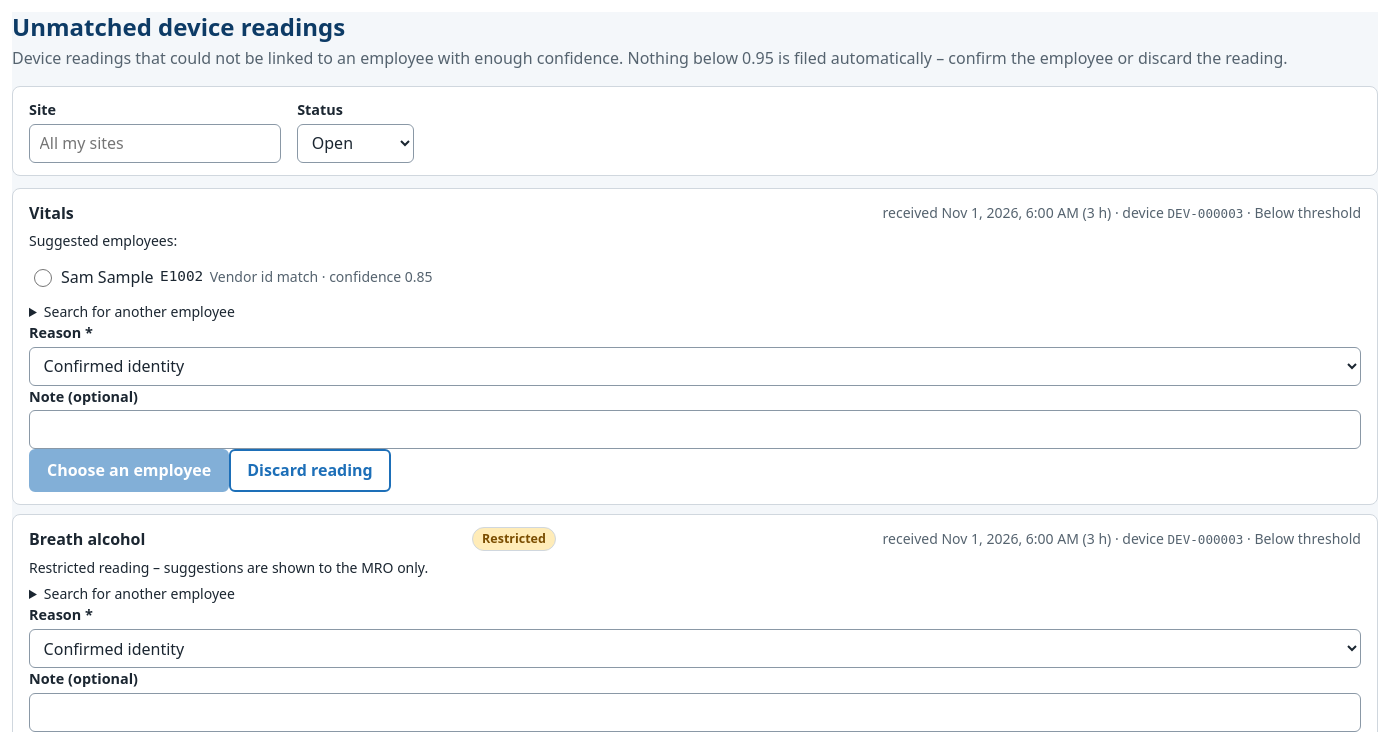
Scenario: Unmatched queue › resolves to a suggested employee with a reason code, or discards
Expected: the text "Restricted reading – suggestions are shown to the MRO only." is shown, [29, 558, 428, 577]
Expected: the text "Vendor id match · confidence 0.85" is shown, [210, 266, 433, 287]
Click the radio button. click: click(43, 278)
box: [34, 270, 52, 287]
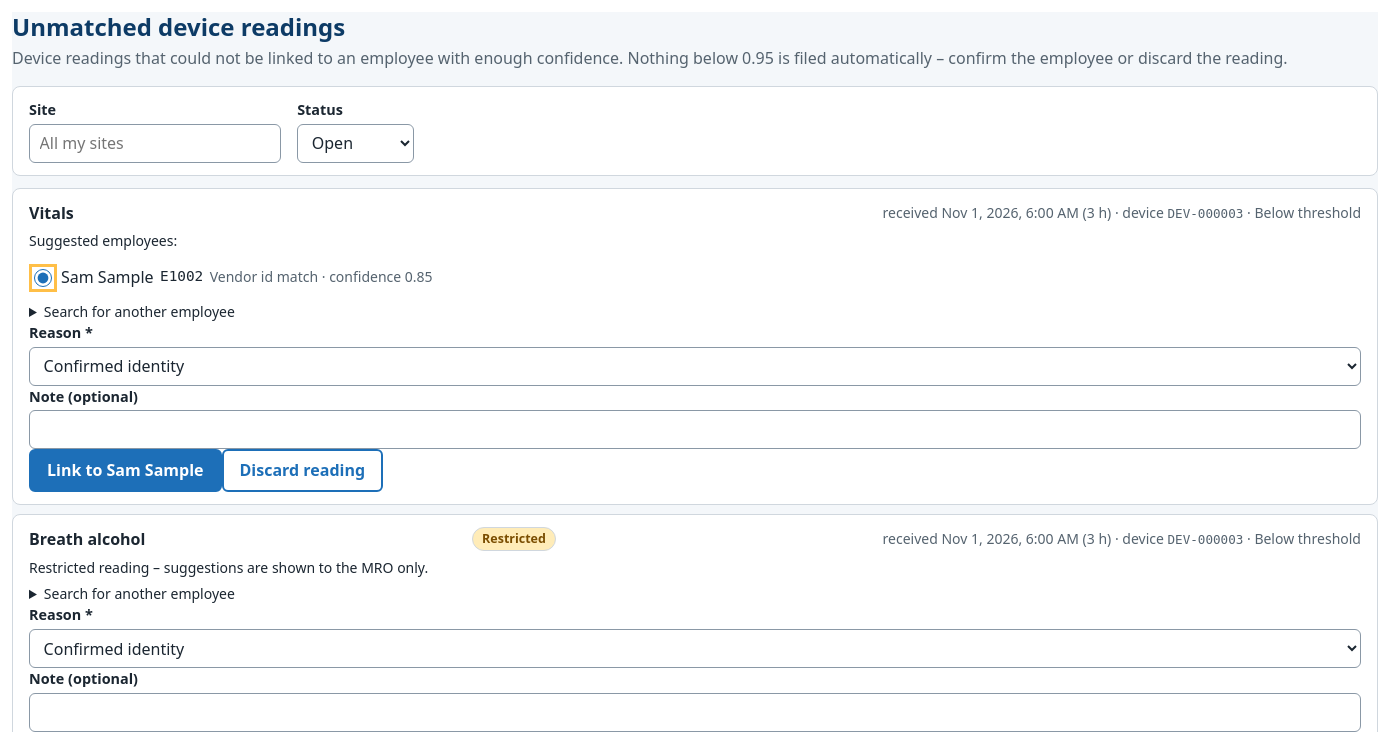
Click the button "Link to Sam Sample". click: click(125, 470)
box: [29, 449, 222, 492]
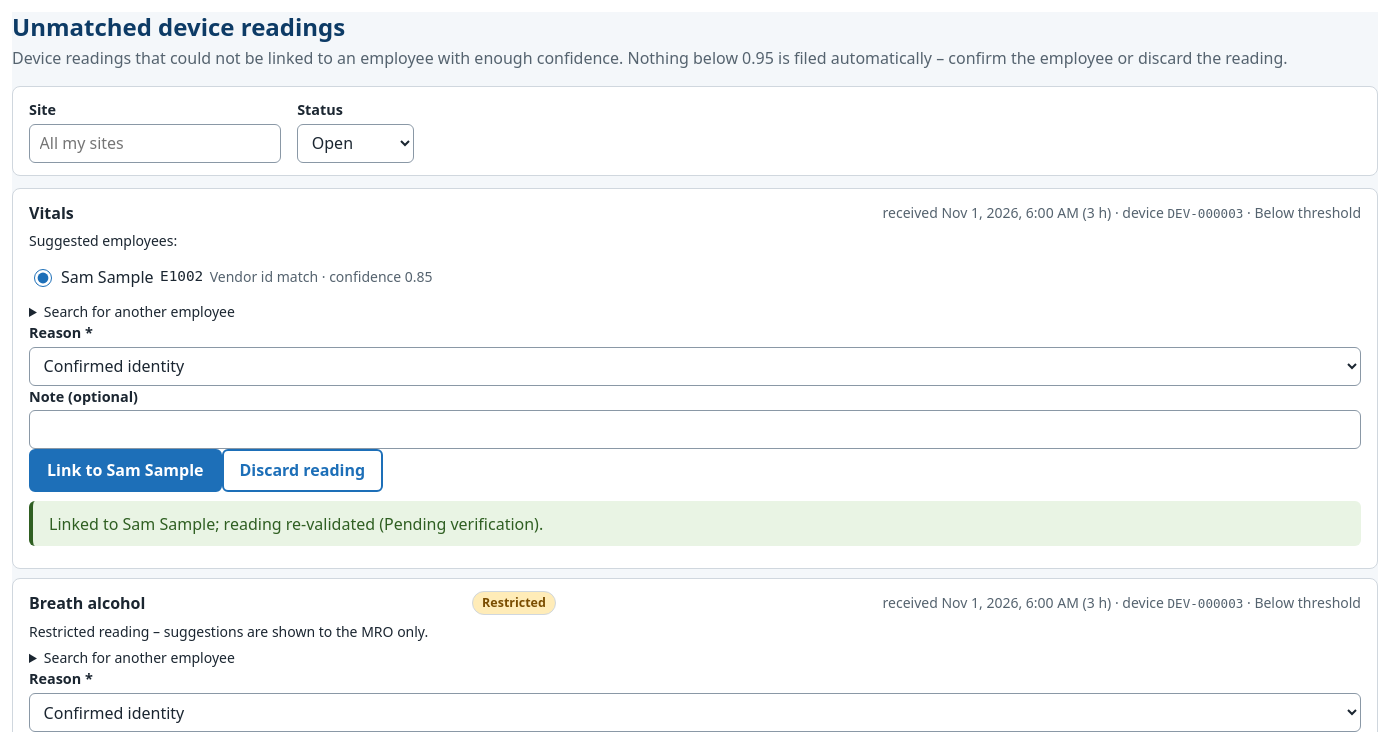
Result: the text "Linked to Sam Sample; reading re-validated (Pending verification)." is shown at [29, 501, 1361, 546]
